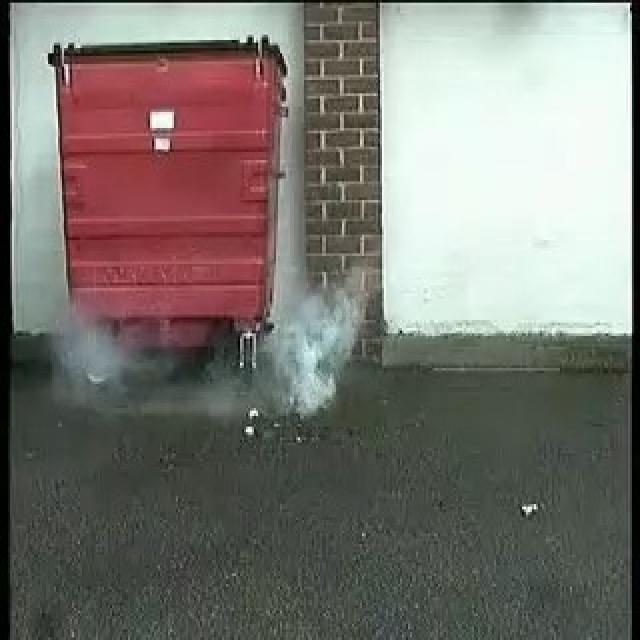smoke: (268, 272, 372, 414)
